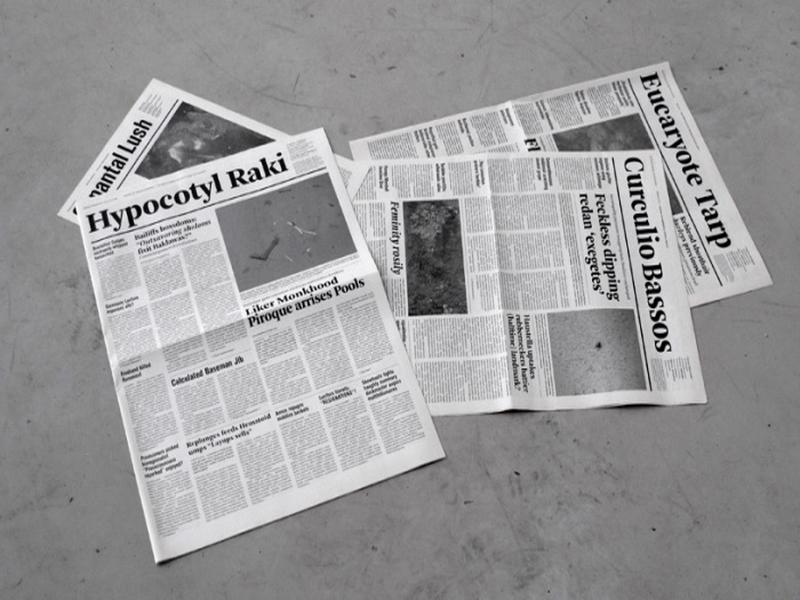paper: (73, 130, 451, 570), (339, 56, 771, 418)
